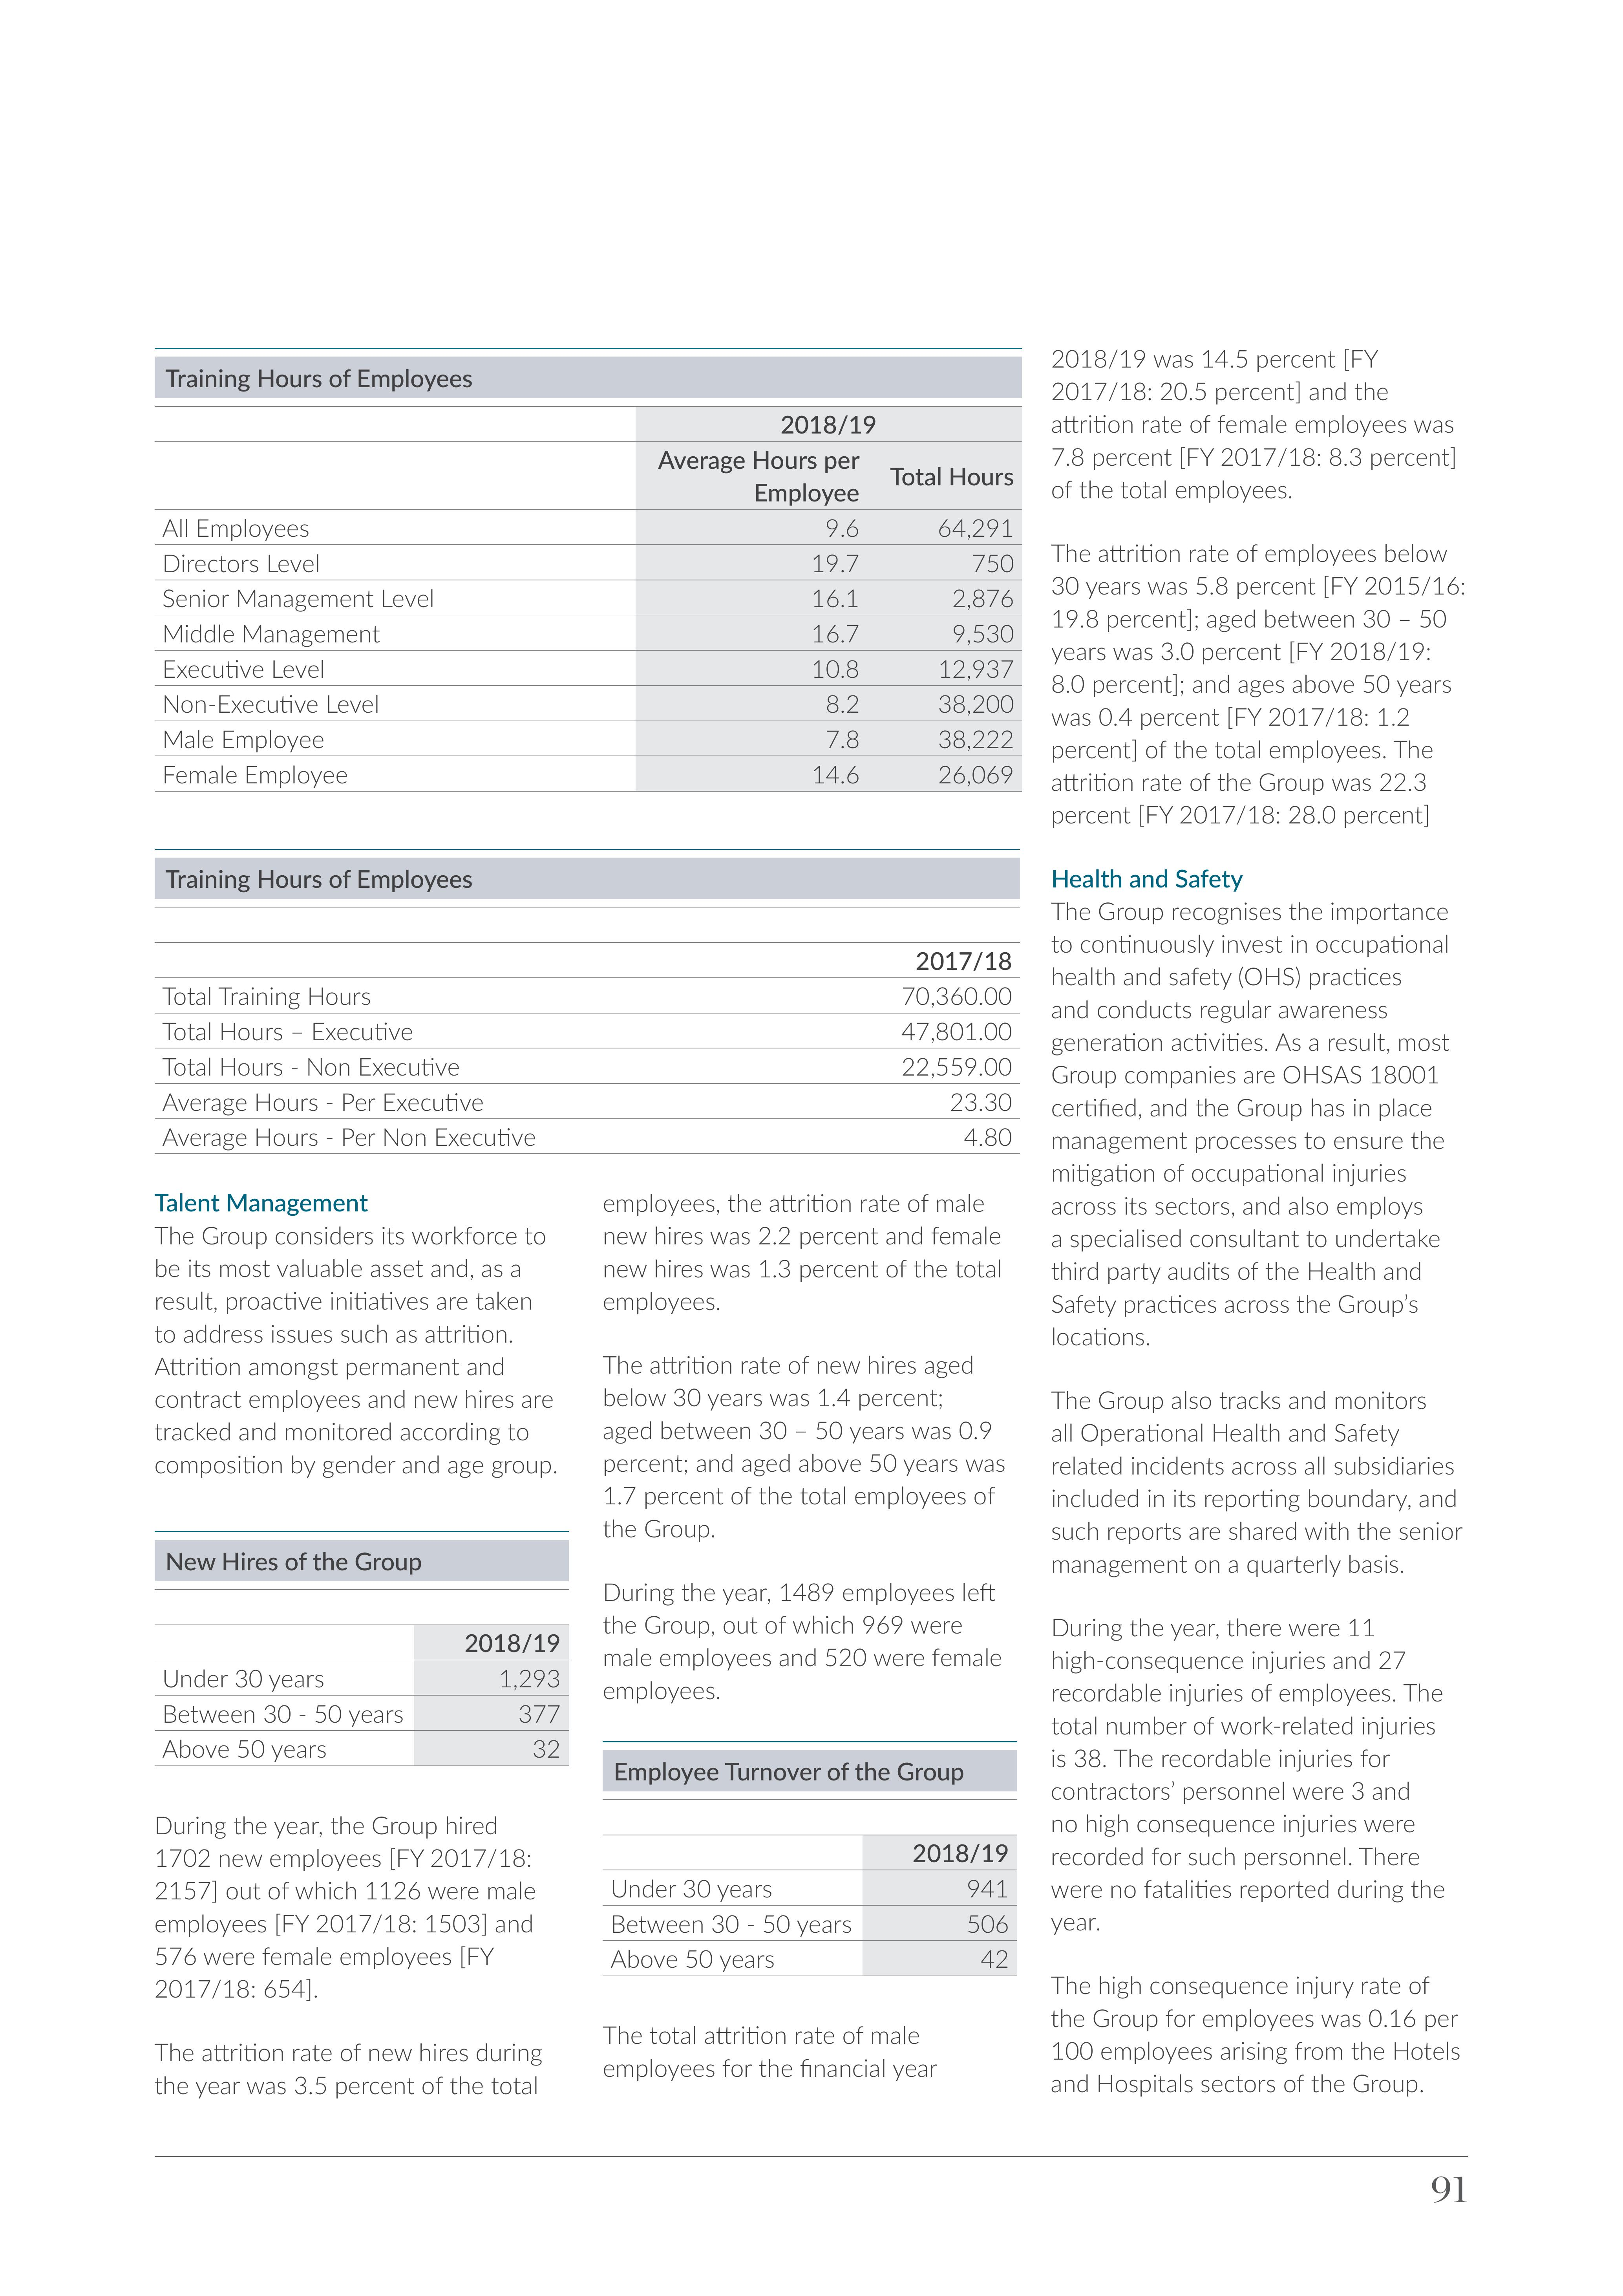table: (148, 343, 1031, 801), (148, 838, 1033, 1170), (148, 1518, 585, 1795), (594, 1739, 1029, 2004)
